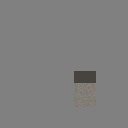supply_truck: (74, 71, 96, 107)
